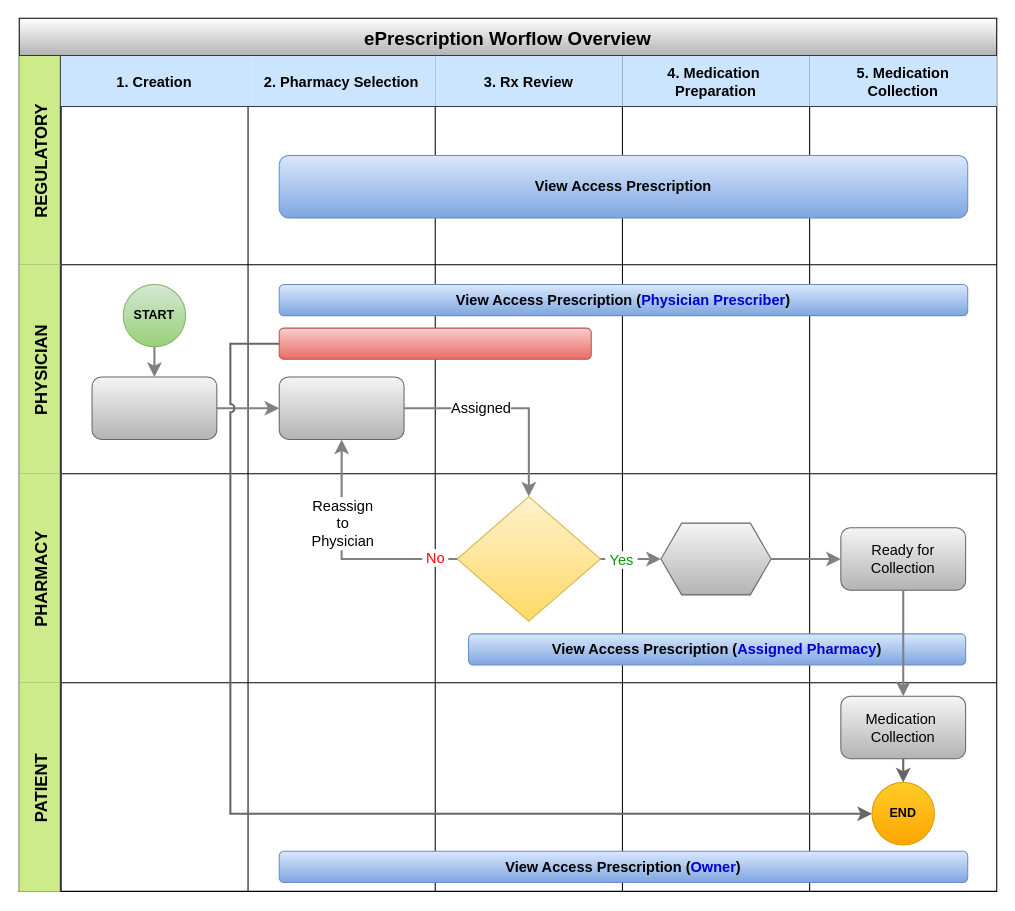
The diagram is 1015 pixels wide and 911 high, and some of its shapes have lost their labels. Each missing label, with the box of its shape:
Assign Pharmacy: (278, 376, 404, 439)
Cancel Prescription: (278, 327, 591, 359)
Create ePrescription: (91, 376, 217, 439)
Prepare Medication: (660, 522, 771, 595)
Review and Accept Prescription ?: (456, 496, 600, 621)
